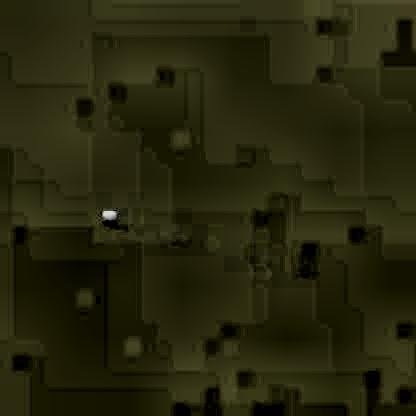golfball: (99, 210, 115, 222)
